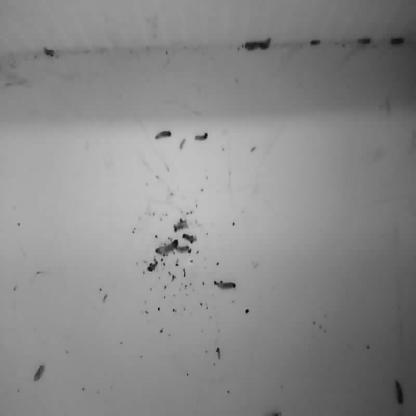PtecticusTenebrifer: (154, 239, 178, 256), (394, 378, 404, 404), (154, 128, 172, 140), (33, 364, 44, 382), (216, 281, 236, 290), (390, 37, 405, 46), (196, 131, 209, 141), (358, 36, 371, 46), (311, 38, 321, 46)
